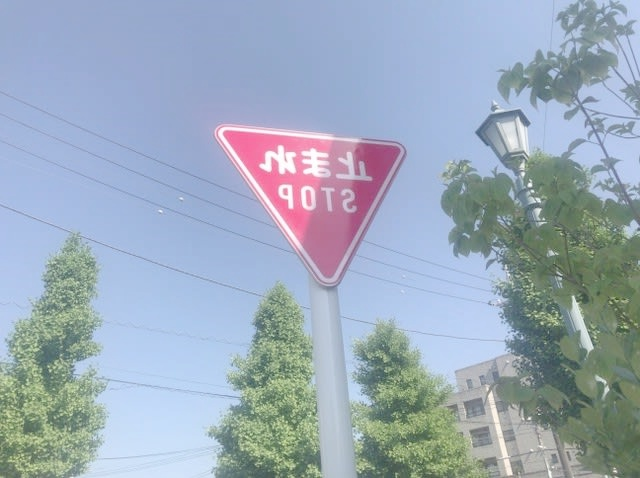Regulatory_sign_triangle: (212, 119, 414, 295)
